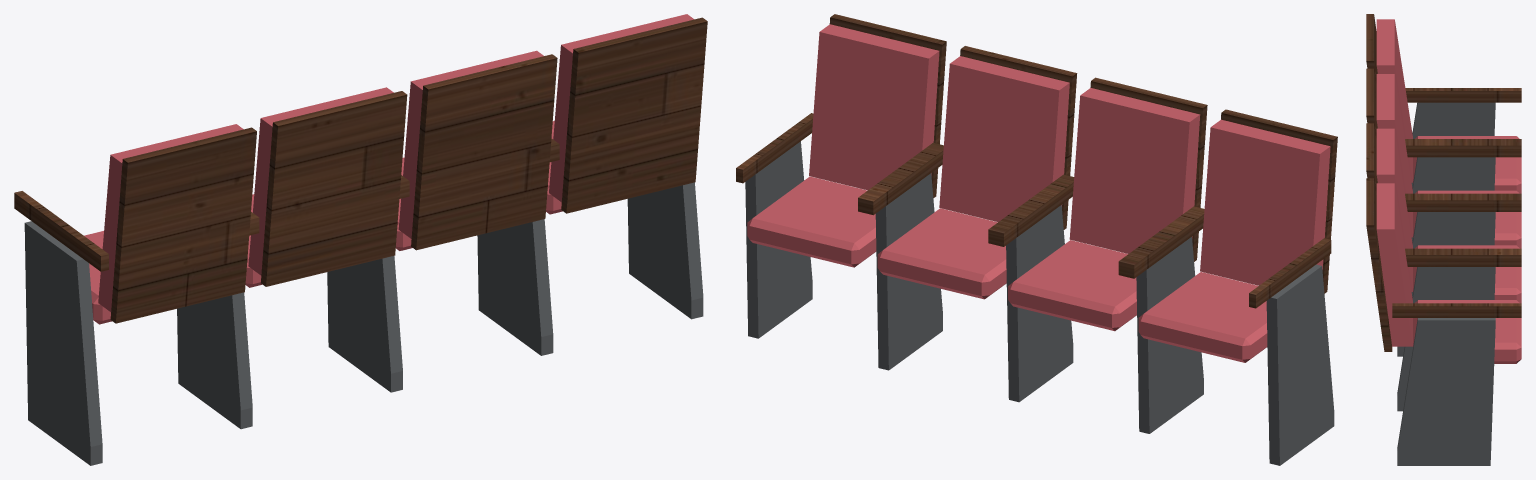
The model's file is seat_row.glb.
The picture shows the model from 3 angles, left to right: view 1: azimuth 30°, elevation 25°; view 2: azimuth 150°, elevation 25°; view 3: azimuth 270°, elevation 25°; orthographic projection. The views are drawn at different scales.
Parts seen in each view (by area): view 1: seat_row_wood, seat_row_iron, seat_row_seat; view 2: seat_row_seat, seat_row_iron, seat_row_wood; view 3: seat_row_iron, seat_row_seat, seat_row_wood.
Boxes of the visible parts, x1=… form: seat_row_wood: x1=14, y1=17, x2=707, y2=323; seat_row_iron: x1=24, y1=182, x2=703, y2=465; seat_row_seat: x1=84, y1=14, x2=694, y2=324; seat_row_seat: x1=747, y1=24, x2=1330, y2=362; seat_row_iron: x1=745, y1=141, x2=1334, y2=465; seat_row_wood: x1=736, y1=14, x2=1337, y2=308; seat_row_iron: x1=1397, y1=102, x2=1495, y2=465; seat_row_seat: x1=1376, y1=19, x2=1521, y2=363; seat_row_wood: x1=1366, y1=14, x2=1521, y2=351.
Bounding box in the file's own units: 2.04 × 1 × 0.6.
3 materials, 1 textured.
